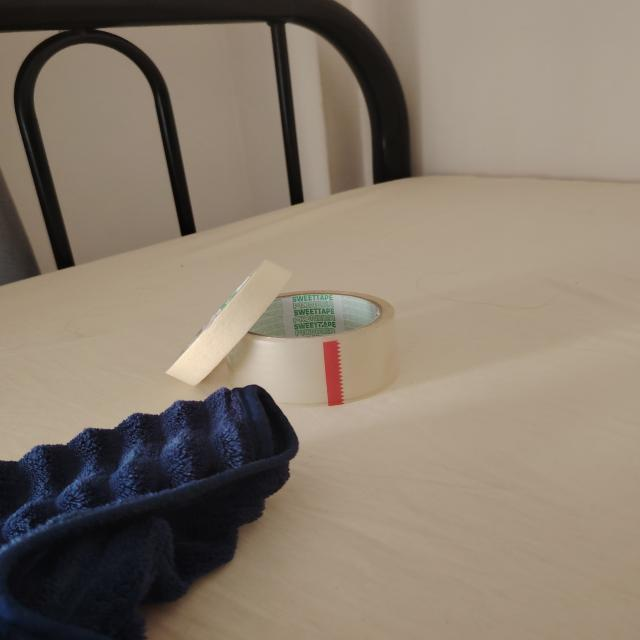tape: (227, 291, 397, 406), (166, 260, 292, 385)
